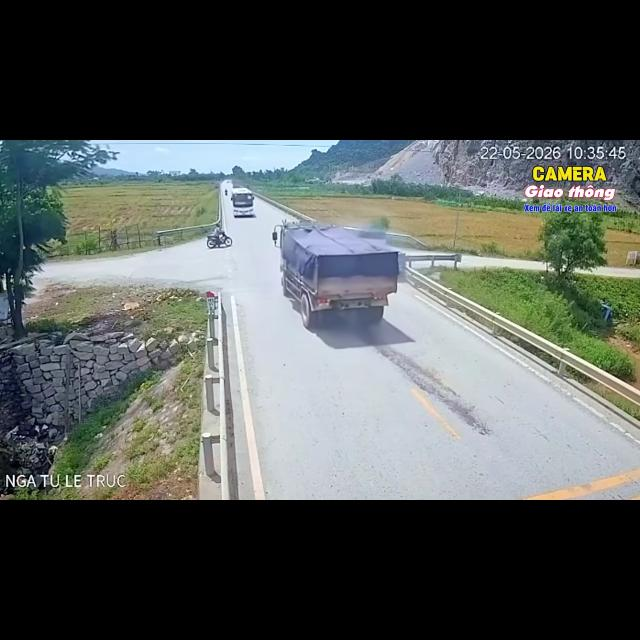bus: (231, 188, 254, 217)
motorcycle: (207, 232, 232, 248), (225, 190, 227, 195)
truck: (272, 221, 400, 329)
